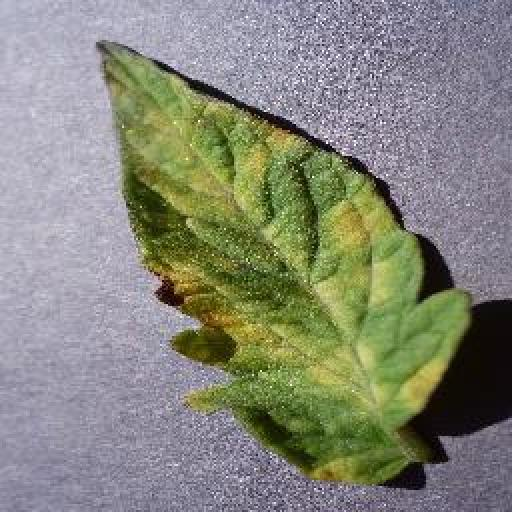Leaf Mold: (94, 35, 476, 484)
